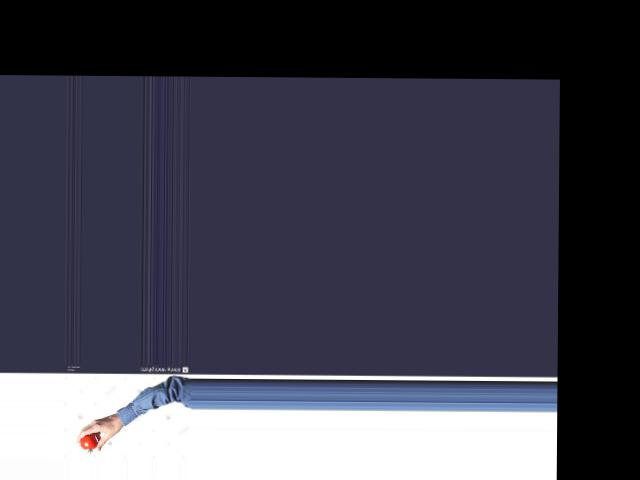tomato: (79, 434, 96, 449)
